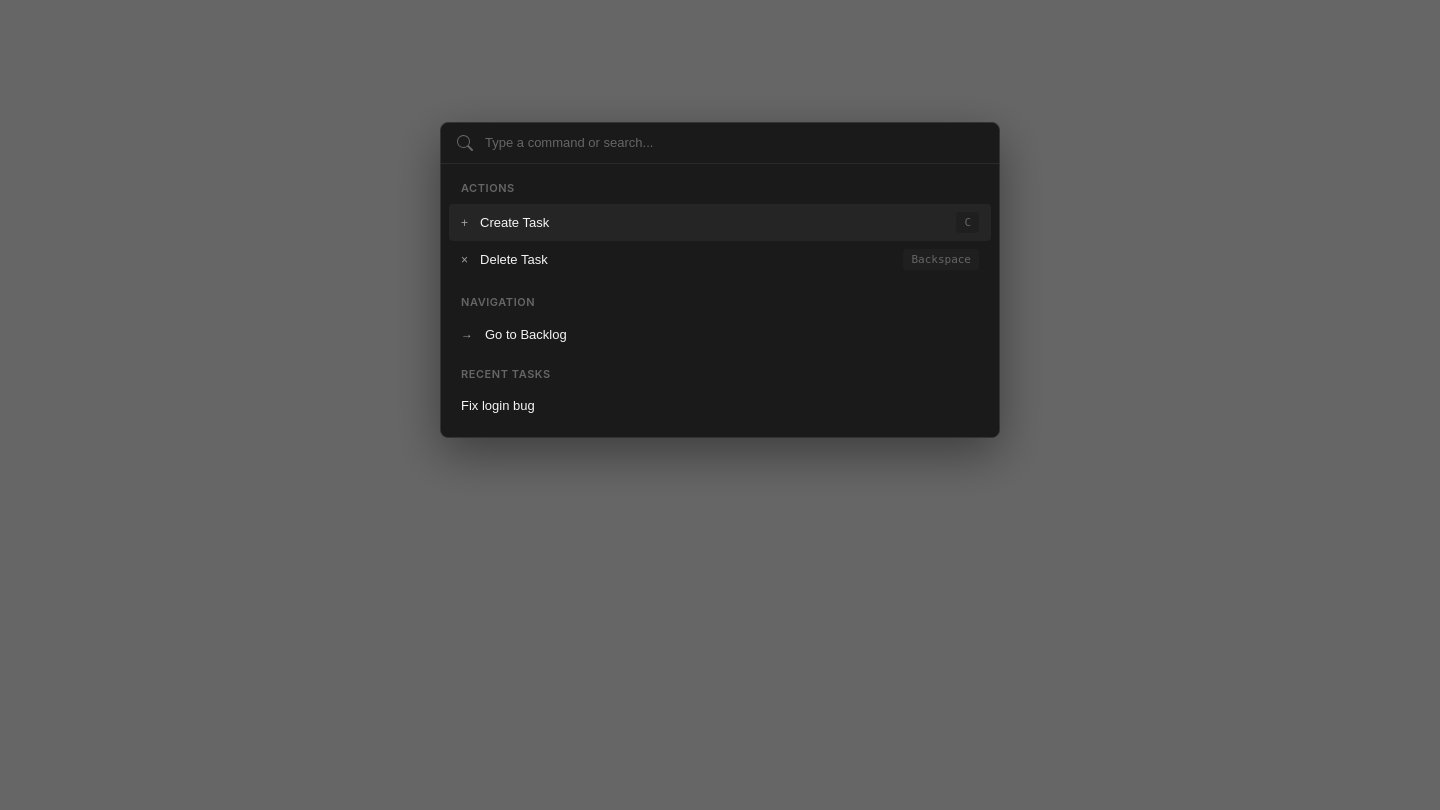
Test: CommandPalette › shows "No commands found" when no matches
Type "xyznonexistent" into the field with placeholder "Type a command or search..." at (734, 142), box [485,135,983,150]
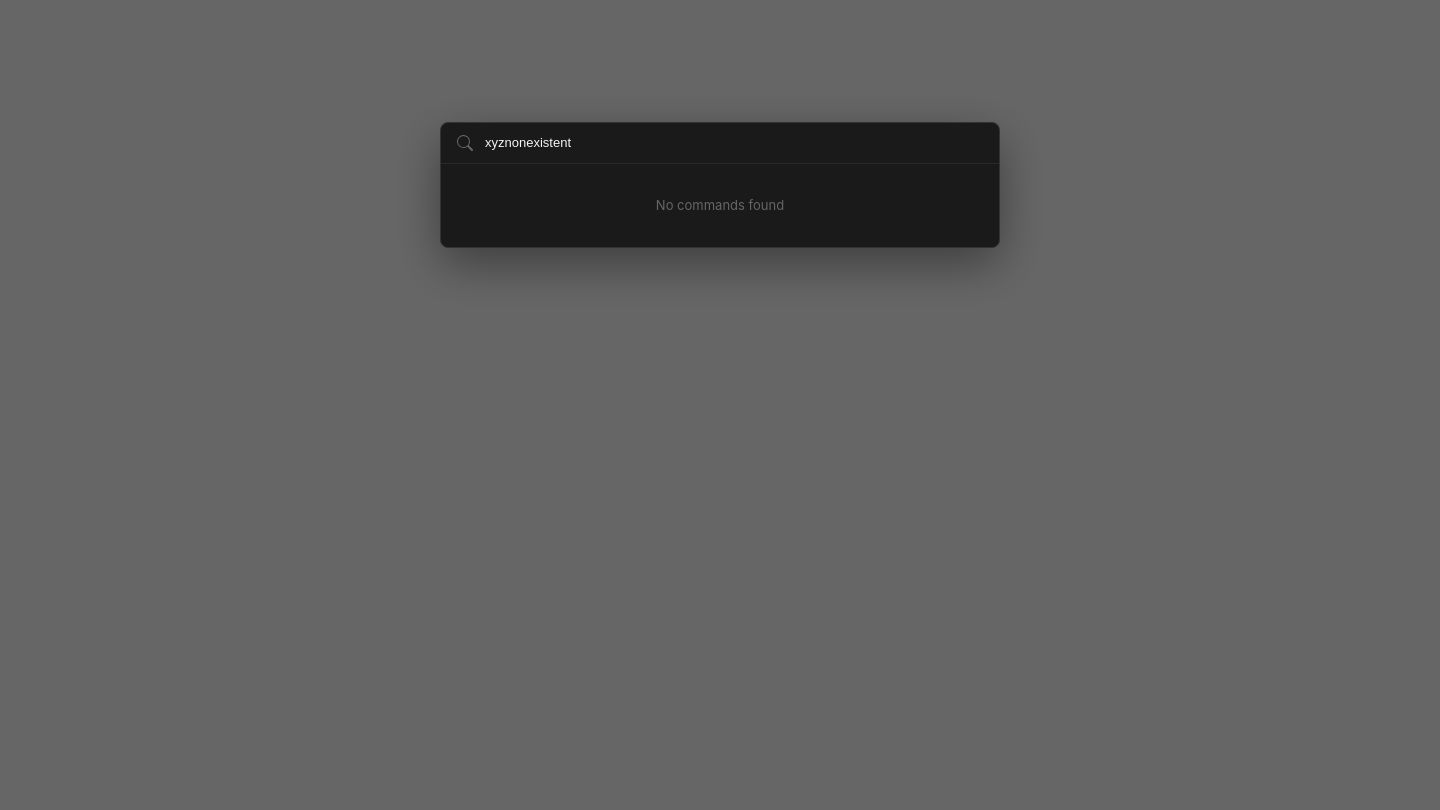
Check: the text "No commands found" is shown, box [656,196,784,212]
